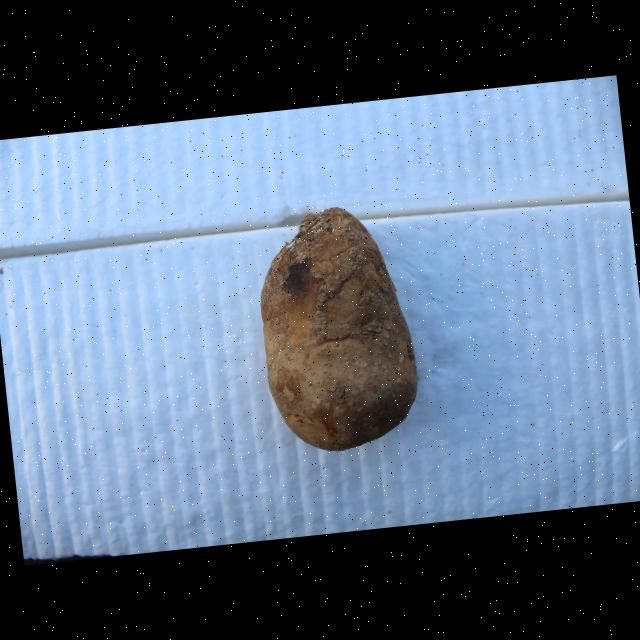Diseased-fungal potato: (248, 200, 430, 460)
